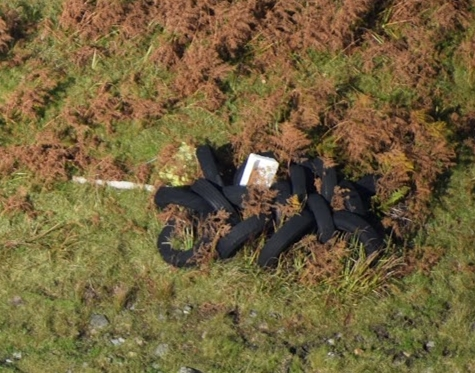straight_bar: (66, 162, 161, 198)
white_in_green: (60, 47, 475, 372)
